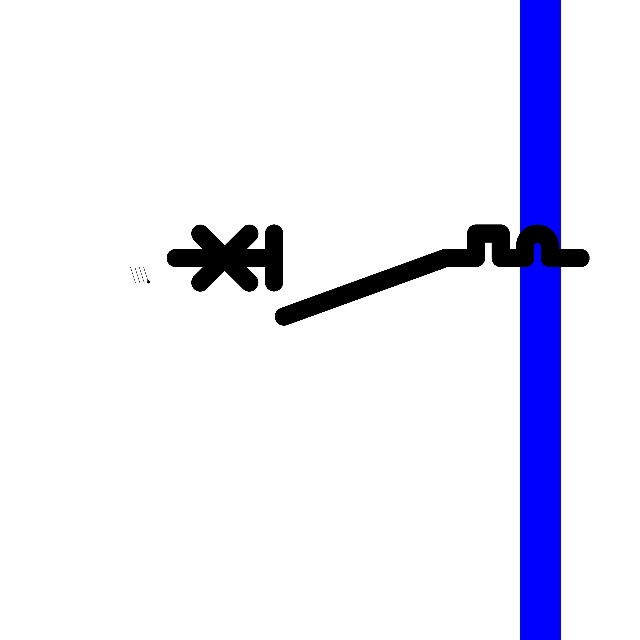interruptor_termomagnetico: (165, 223, 591, 327)
